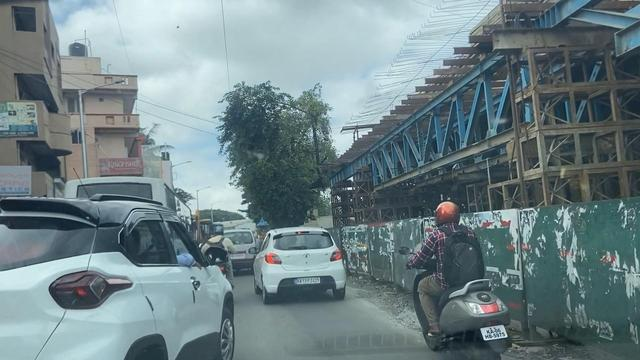LMV: (426, 206, 506, 355), (263, 231, 341, 300)
